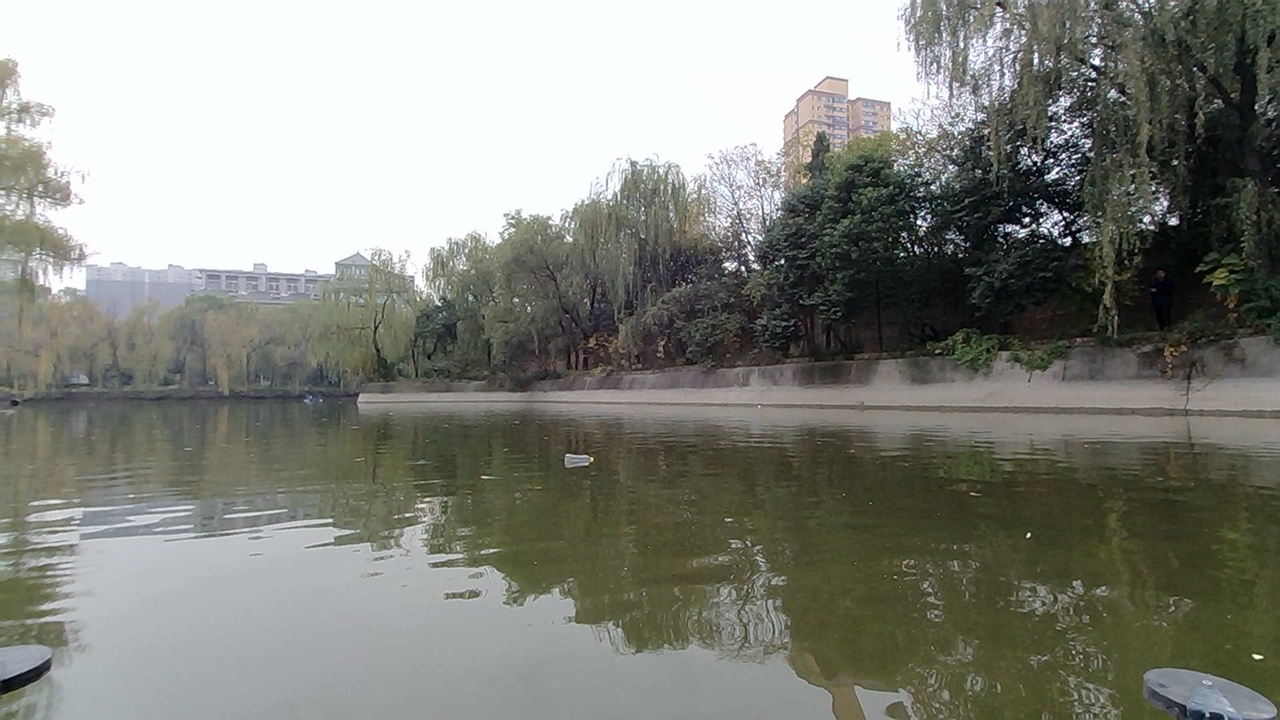bottle: (555, 435, 607, 472)
